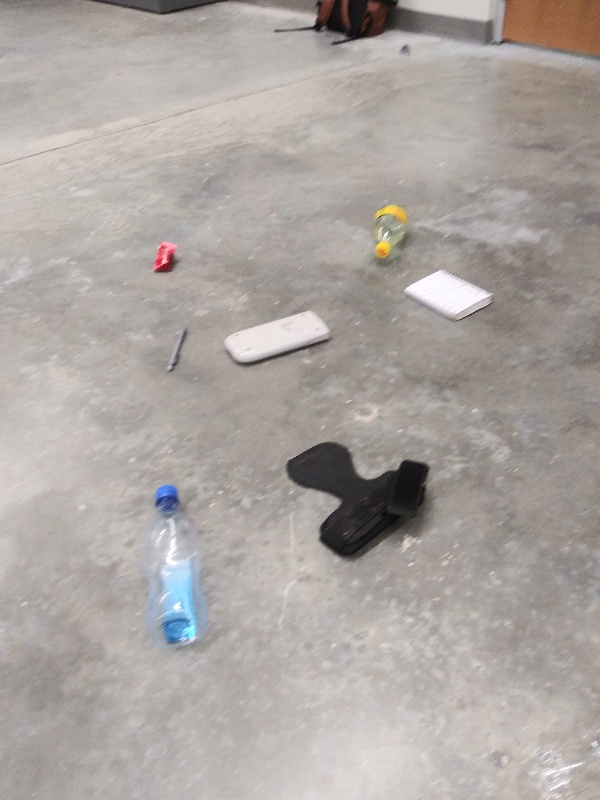bottle: (144, 484, 206, 650), (369, 194, 412, 262)
